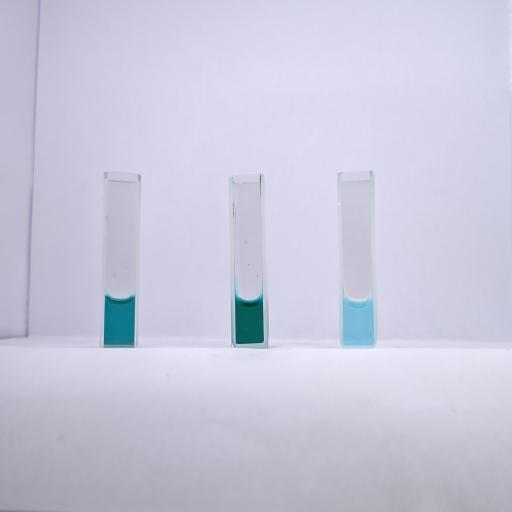cuvette: (335, 170, 379, 349), (99, 171, 143, 348), (227, 172, 270, 349)
liquid: (104, 295, 135, 344), (343, 298, 374, 345), (235, 298, 263, 344)
